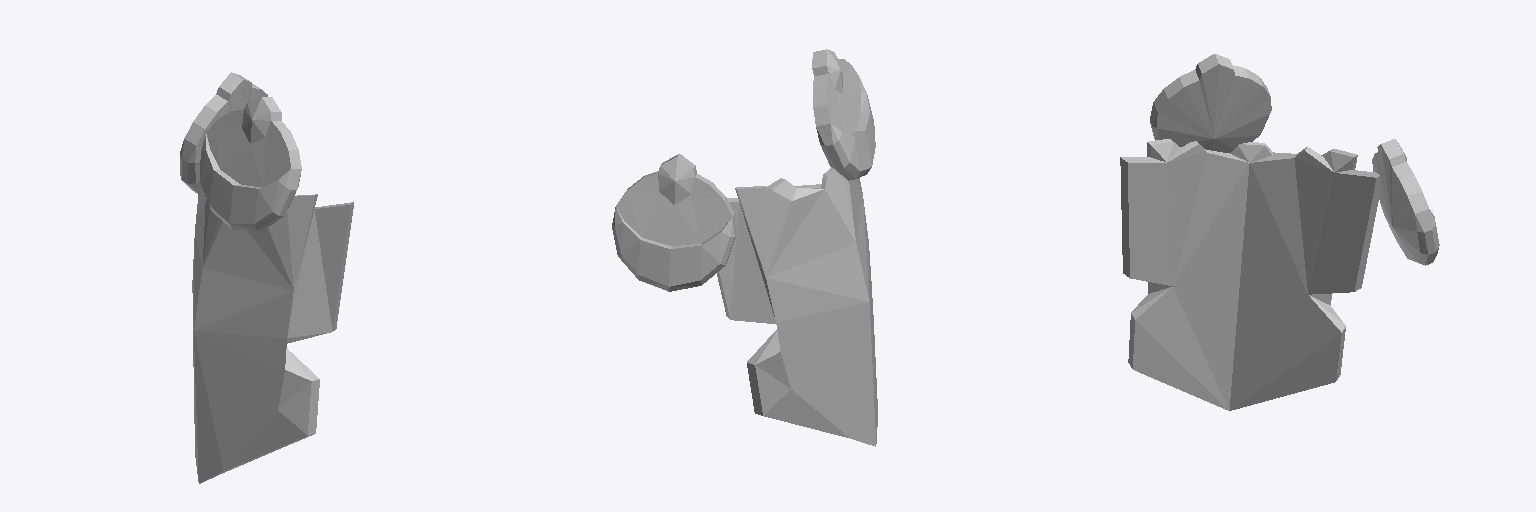
Rendered from p2_ulegarmor.obj.
The picture shows the model from 3 angles: view 1: azimuth 30°, elevation 25°; view 2: azimuth 150°, elevation 25°; view 3: azimuth 270°, elevation 25°; orthographic projection.
Visible parts, largest first — view 1: Predatorarmour.003; view 2: Predatorarmour.003; view 3: Predatorarmour.003.
Boxes of the visible parts, x1,y1,x2,y2 form: Predatorarmour.003: [180, 72, 353, 483]; Predatorarmour.003: [612, 49, 877, 446]; Predatorarmour.003: [1120, 54, 1439, 410].
Bounding box in the file's own units: 0.4702 × 1.03 × 0.7856.